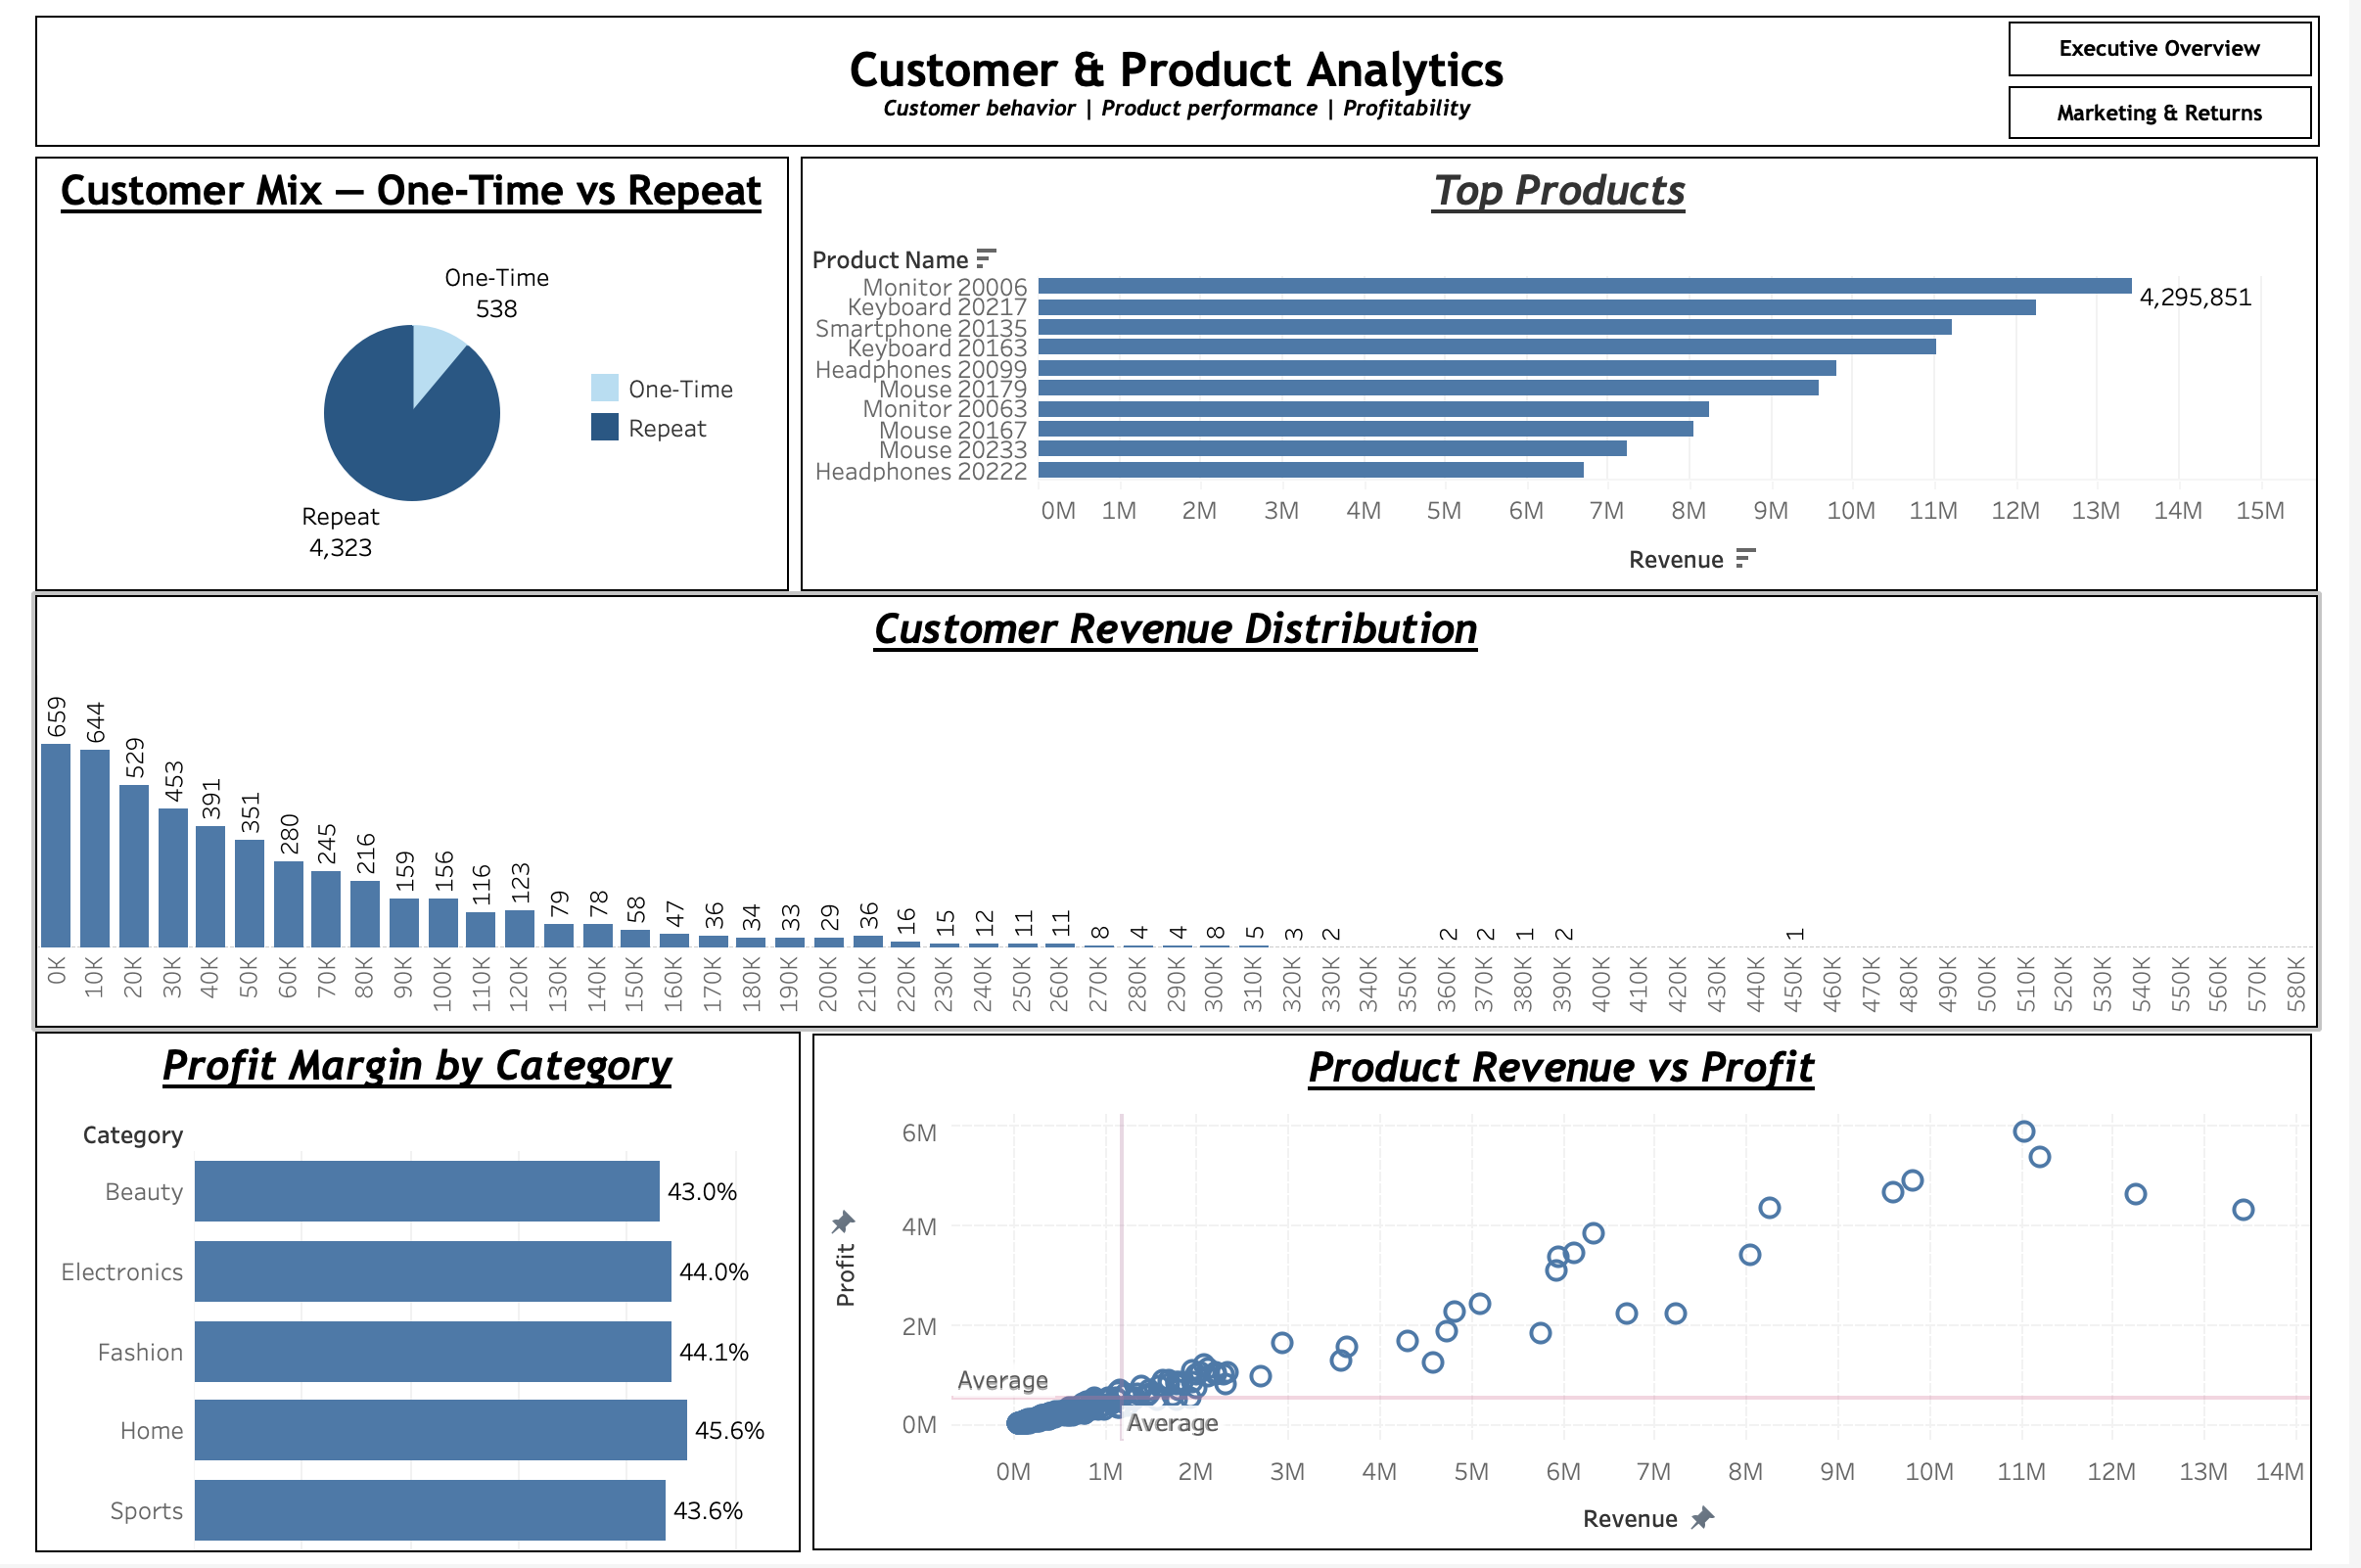

Layout of this report page (visuals, bound fields, positions):
{"tool":"tableau","page":{"name":"Customer & Product","canvas":[1200,800],"ordinal":0},"visuals":[{"type":"text","box":[18.5,9.3,1166.8,67]},{"type":"dashboard-object","box":[1026,12,155,28]},{"type":"dashboard-object","box":[1026,45,155,27]},{"type":"worksheet","title":"Customer Type — One-Time vs Repeat","mark":"Pie","box":[18,81,385,222]},{"type":"worksheet","title":"Top Products by Revenue","mark":"Bar","rows":["product_name"],"cols":["revenue"],"box":[409,81,775,222]},{"type":"legend","title":"Customer Type — One-Time vs Repeat","param":"[federated.1gzx9gp1j1lm3x145ygit1gli344].[none:Calculation_6596428705058820:nk]","box":[299,189,99,58]},{"type":"worksheet","title":"Customer Revenue Distribution","mark":"Bar","rows":["customer_id"],"cols":["Customer Revenue (bin)"],"box":[18,305,1166,221]},{"type":"worksheet","title":"Category Profit Margin","mark":"Automatic","rows":["category"],"cols":["Calculation_6596428703944707"],"box":[18,528,391,266]},{"type":"worksheet","title":"Revenue v/s Profit","mark":"Automatic","rows":["profit"],"cols":["revenue"],"box":[415,529,766,264]}]}

Visuals, with their boxes in screenshot pixels (x1, y1, x2, y2), scaled from the page's 1200x800 canvas onto the 2361x1568 screenshot:
text: pyautogui.locateOnScreen(36, 19, 2332, 150)
dashboard-object: pyautogui.locateOnScreen(2018, 23, 2324, 78)
dashboard-object: pyautogui.locateOnScreen(2018, 88, 2324, 141)
"Customer Type — One-Time vs Repeat" worksheet (Pie marks): pyautogui.locateOnScreen(35, 159, 793, 594)
"Top Products by Revenue" worksheet (Bar marks): pyautogui.locateOnScreen(805, 159, 2330, 594)
"Customer Type — One-Time vs Repeat" legend: pyautogui.locateOnScreen(588, 370, 783, 484)
"Customer Revenue Distribution" worksheet (Bar marks): pyautogui.locateOnScreen(35, 598, 2330, 1031)
"Category Profit Margin" worksheet: pyautogui.locateOnScreen(35, 1035, 805, 1556)
"Revenue v/s Profit" worksheet: pyautogui.locateOnScreen(816, 1037, 2324, 1554)
